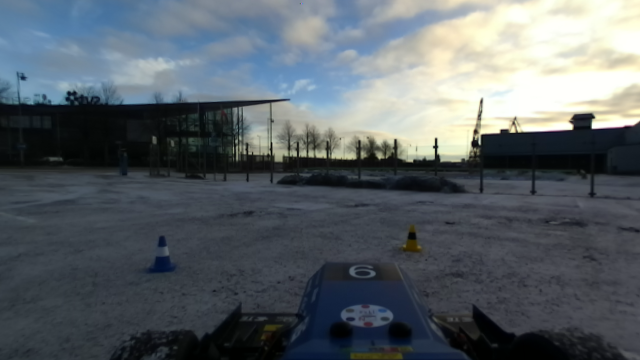blue: (146, 235, 181, 276)
yellow: (401, 224, 422, 254)
